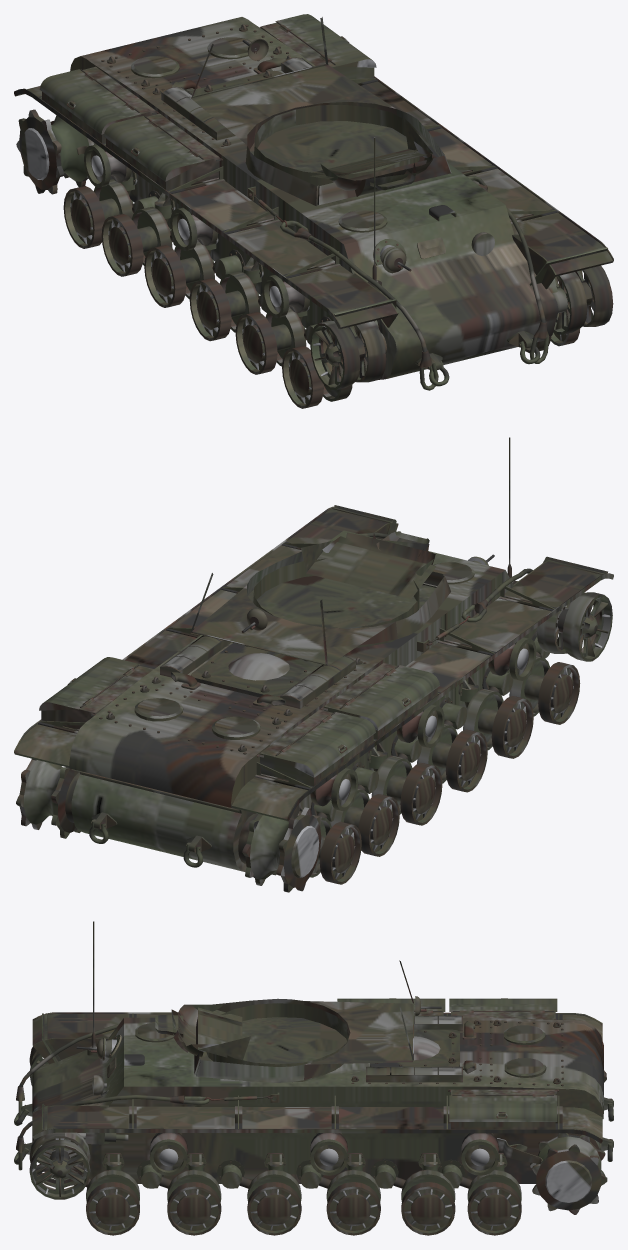
Rendered from kv1_hull_m0.obj.
3 renders of one model, top to bottom at view 1: azimuth 30°, elevation 25°; view 2: azimuth 150°, elevation 25°; view 3: azimuth 270°, elevation 25°, orthographic. The views are drawn at different scales.
Visible parts, largest first — view 1: kv1_hull_m0; view 2: kv1_hull_m0; view 3: kv1_hull_m0.
Boxes of the visible parts, left/top/right/bottom form: kv1_hull_m0: left=14, top=14, right=613, bottom=408; kv1_hull_m0: left=14, top=437, right=613, bottom=892; kv1_hull_m0: left=14, top=921, right=613, bottom=1235.
Bounding box in the file's own units: 3.11 × 2.81 × 6.7.
Materials: 1 (1 with a texture image).
